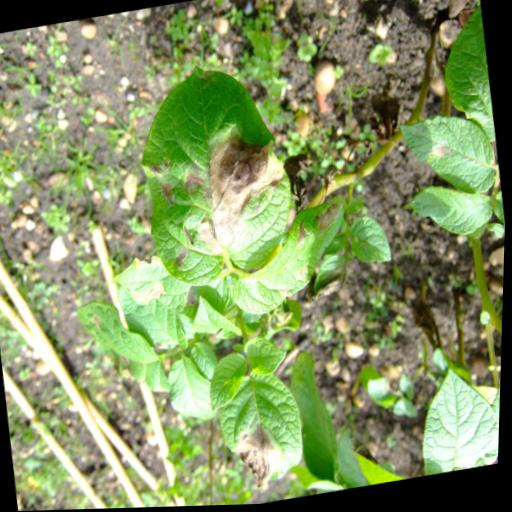Early Blight: (126, 57, 305, 299), (213, 364, 319, 505), (233, 200, 357, 302), (391, 99, 502, 209), (73, 291, 166, 380)
